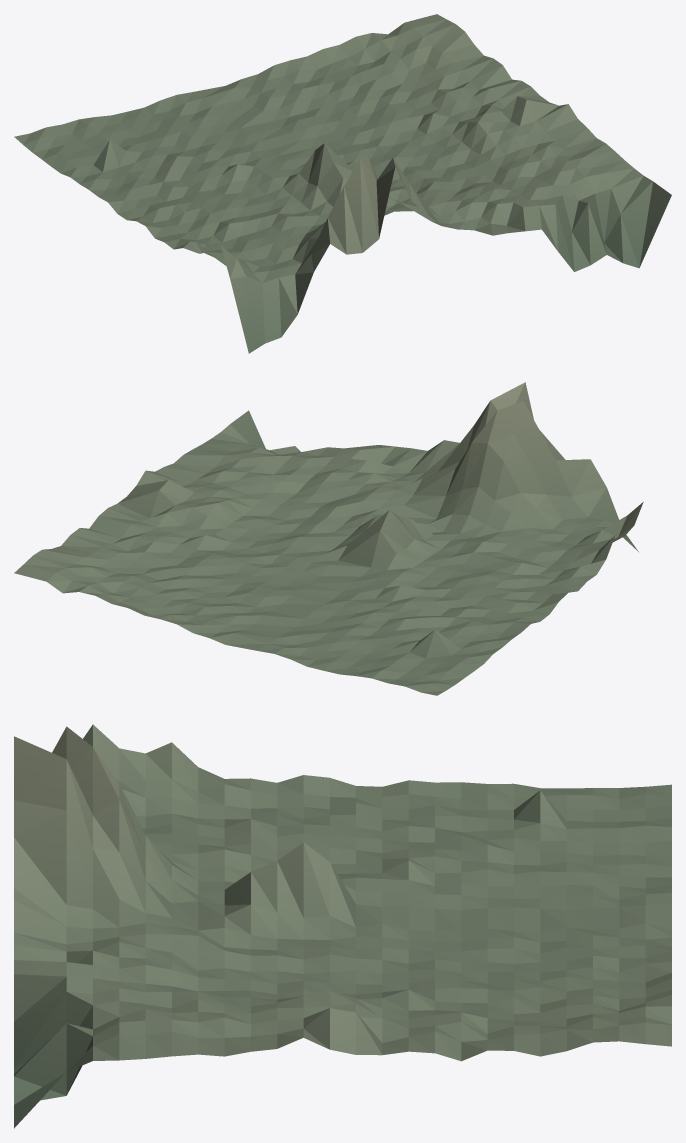
File: tile_0_1.glb
The picture shows the model from 3 angles, top to bottom: view 1: azimuth 30°, elevation 25°; view 2: azimuth 150°, elevation 25°; view 3: azimuth 270°, elevation 25°; orthographic projection. The views are drawn at different scales.
Visible parts, largest first — view 1: geometry_0; view 2: geometry_0; view 3: geometry_0.
Part boxes in pixels (x1,y1,x2,y2): geometry_0: [14, 14, 671, 353]; geometry_0: [14, 382, 643, 695]; geometry_0: [14, 724, 671, 1128].
Bounding box in the file's own units: 127 × 46.37 × 123.
